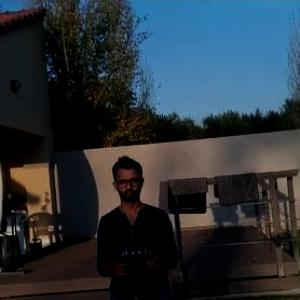follow: (93, 147, 183, 299)
